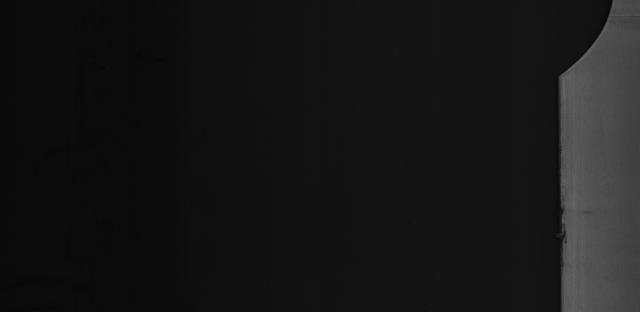crescent_gap: (525, 0, 619, 95)
welding_line: (594, 7, 640, 24)
